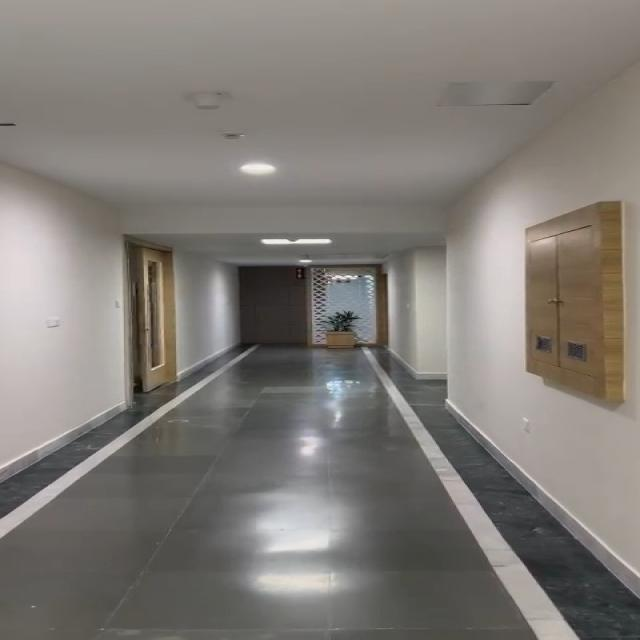door: (99, 243, 181, 396)
floor: (46, 427, 517, 640), (201, 343, 413, 426)
furniture: (302, 314, 368, 355)
wall: (0, 165, 109, 417), (390, 234, 528, 396), (168, 240, 244, 358)
